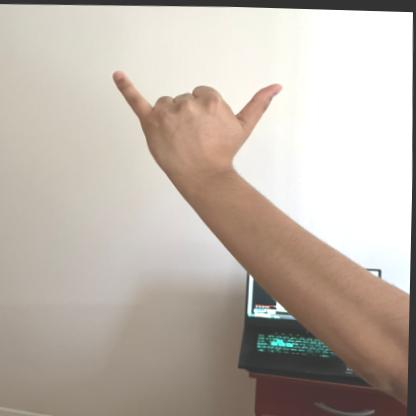Y: (107, 62, 289, 181)
